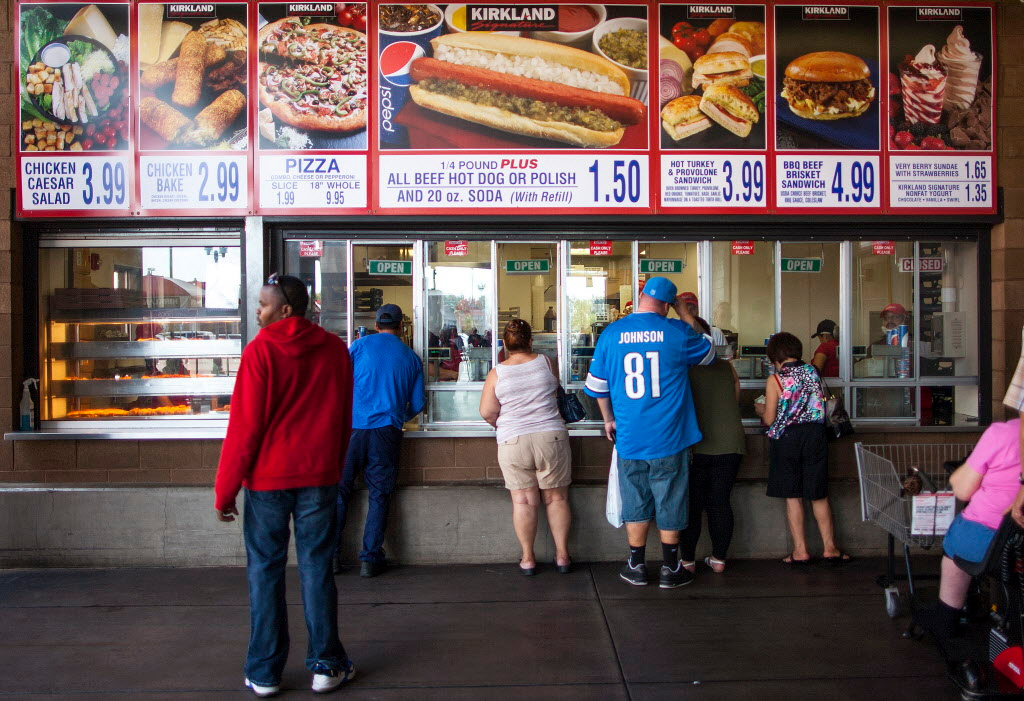Person: (214, 269, 357, 695), (583, 276, 717, 589), (333, 303, 426, 575), (476, 320, 572, 578), (754, 333, 855, 566)
